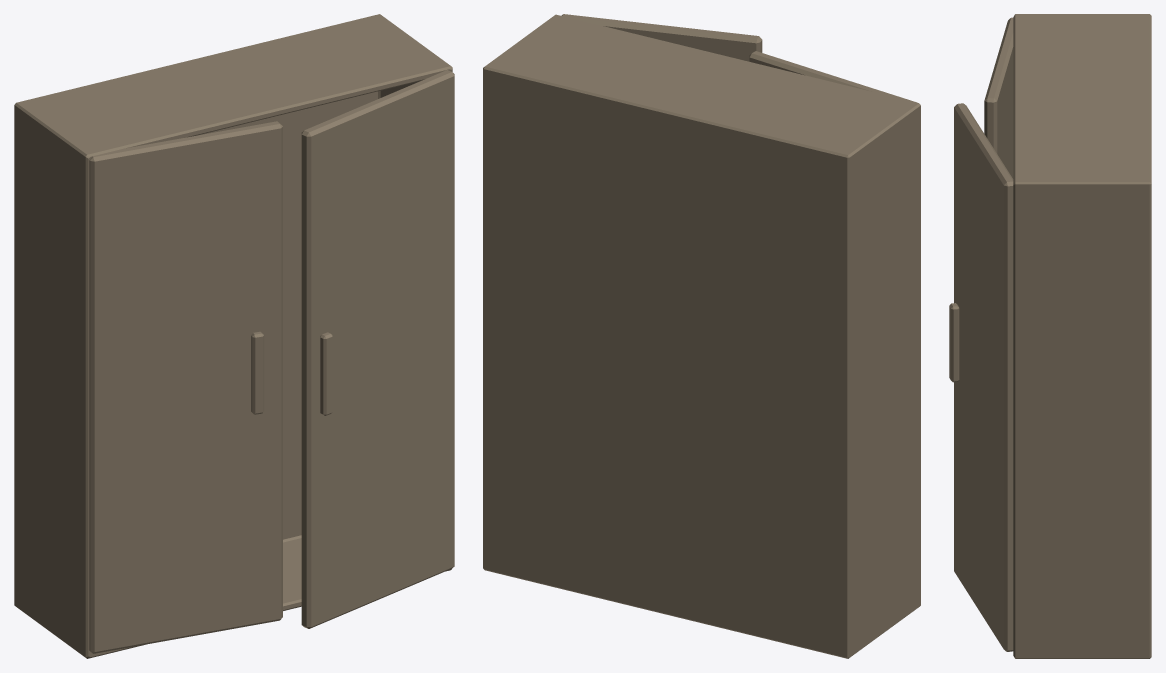
3 renders of one model, left to right at view 1: azimuth 30°, elevation 25°; view 2: azimuth 150°, elevation 25°; view 3: azimuth 270°, elevation 25°, orthographic. The views are drawn at different scales.
Parts seen in each view (by area): view 1: pCube22, pCube21, pCube23, pCube24, pCube25; view 2: pCube21, pCube23, pCube22; view 3: pCube21, pCube23, pCube22, pCube25.
Part boxes in pixels (<box>): pCube22: <box>89,121,282,653</box>; pCube21: <box>14,14,452,658</box>; pCube23: <box>301,70,454,628</box>; pCube24: <box>251,331,264,414</box>; pCube25: <box>320,332,332,415</box>; pCube21: <box>483,14,920,658</box>; pCube23: <box>561,14,762,61</box>; pCube22: <box>749,51,916,102</box>; pCube21: <box>1013,14,1151,658</box>; pCube23: <box>954,103,1013,651</box>; pCube22: <box>984,17,1013,178</box>; pCube25: <box>949,303,959,382</box>.
Size of the model in its own units: 4.8 by 6.29 by 2.42.
